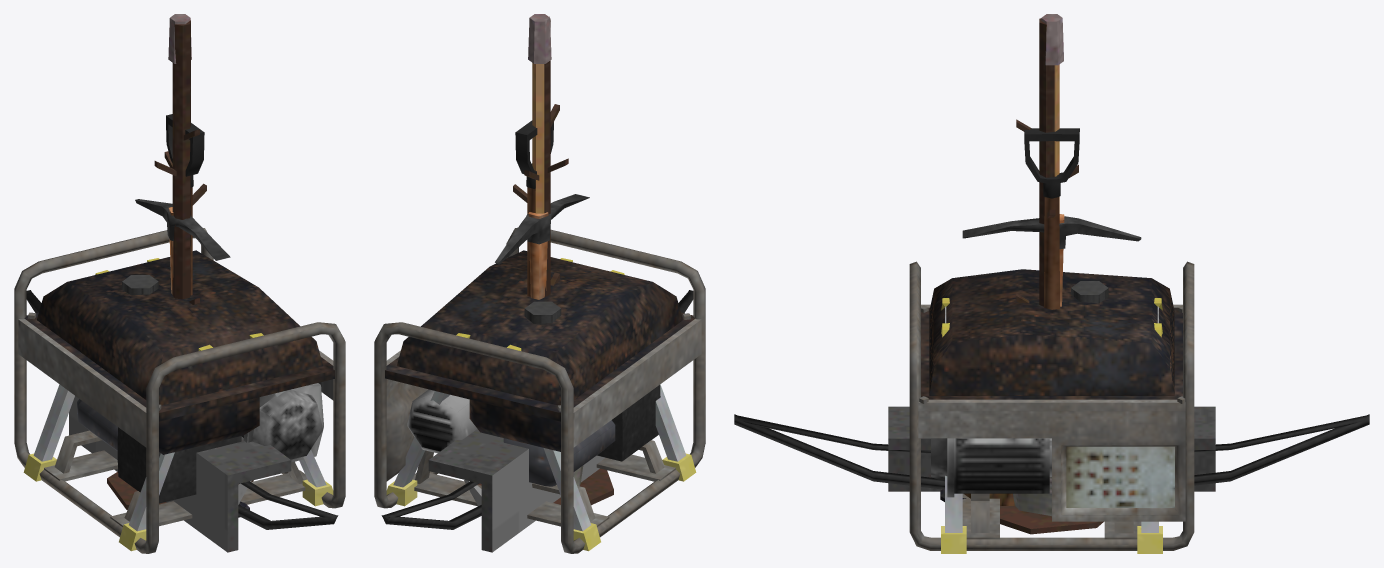
The model's file is ToolsEquipment_Models.fbx.
3 views of the same model, side by side, from view 1: azimuth 30°, elevation 25°; view 2: azimuth 150°, elevation 25°; view 3: azimuth 270°, elevation 25° (orthographic). The views are drawn at different scales.
Parts seen in each view (by area): view 1: Mine_Generator, HouseProps_hanger, HouseProps_hanger2, HouseProps_ladder, Mine_Beak, Mine_Shovel, Mine_Cables_01, Mine_Cables, HouseProps_broom; view 2: Mine_Generator, HouseProps_hanger, HouseProps_ladder, HouseProps_broom, HouseProps_hanger2, Mine_Beak, Mine_Shovel, Mine_Cables, Mine_Cables_01; view 3: Mine_Generator, Mine_Cables_01, HouseProps_hanger2, HouseProps_hanger, Mine_Shovel, HouseProps_ladder, Mine_Beak, Mine_Cables, HouseProps_broom, HouseProps_bucket.
Boxes of the visible parts, bbox=[...] form: Mine_Generator: bbox=[14, 228, 345, 553]; HouseProps_hanger: bbox=[69, 396, 291, 552]; HouseProps_hanger2: bbox=[107, 20, 253, 509]; HouseProps_ladder: bbox=[23, 258, 333, 551]; Mine_Beak: bbox=[135, 199, 230, 294]; Mine_Shovel: bbox=[166, 114, 204, 295]; Mine_Cables_01: bbox=[26, 292, 338, 529]; Mine_Cables: bbox=[26, 290, 337, 524]; HouseProps_broom: bbox=[168, 14, 191, 63]; Mine_Generator: bbox=[374, 227, 705, 553]; HouseProps_hanger: bbox=[428, 429, 605, 552]; HouseProps_ladder: bbox=[386, 258, 696, 551]; HouseProps_broom: bbox=[528, 14, 551, 213]; HouseProps_hanger2: bbox=[478, 16, 613, 505]; Mine_Beak: bbox=[495, 194, 589, 299]; Mine_Shovel: bbox=[515, 120, 553, 296]; Mine_Cables: bbox=[382, 290, 693, 529]; Mine_Cables_01: bbox=[382, 292, 693, 520]; Mine_Generator: bbox=[909, 261, 1194, 550]; Mine_Cables_01: bbox=[734, 415, 1369, 489]; HouseProps_hanger2: bbox=[1000, 18, 1103, 534]; HouseProps_hanger: bbox=[888, 406, 1215, 491]; Mine_Shovel: bbox=[1024, 128, 1079, 309]; HouseProps_ladder: bbox=[941, 298, 1162, 553]; Mine_Beak: bbox=[962, 214, 1141, 306]; Mine_Cables: bbox=[734, 414, 1369, 483]; HouseProps_broom: bbox=[964, 14, 1063, 505]; HouseProps_bucket: bbox=[1013, 477, 1051, 516].
Size of the model in its own units: 0.8997 by 1.96 by 2.33.
2 materials, 2 textured.
